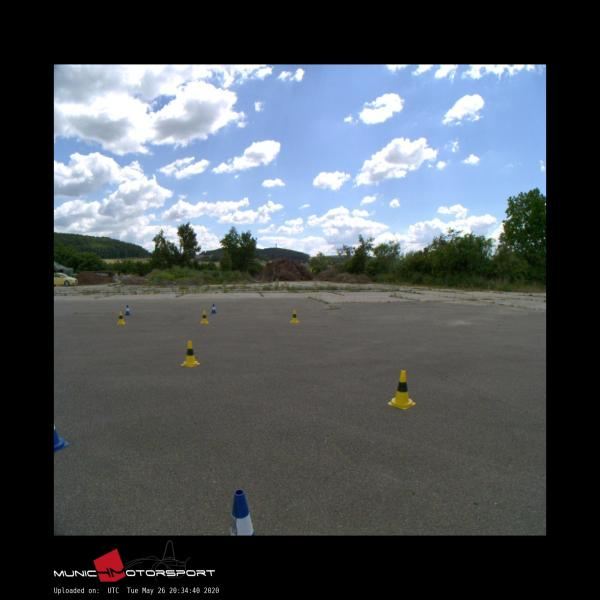blue_cone: (124, 305, 131, 315), (211, 304, 217, 314)
yellow_cone: (388, 370, 416, 409), (181, 341, 200, 367), (290, 309, 299, 323), (117, 311, 125, 324), (201, 311, 208, 323)
